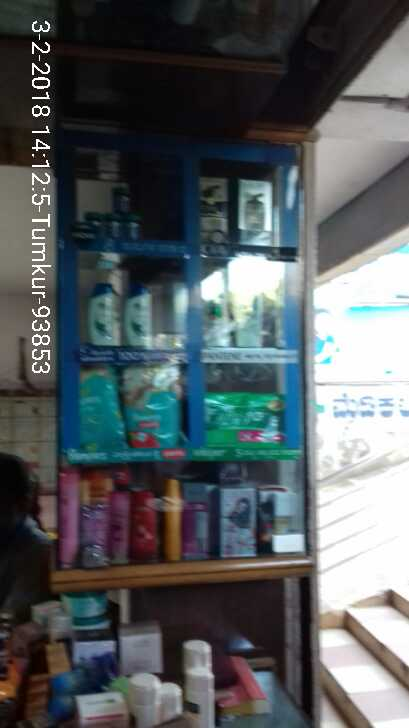beauty: (240, 177, 281, 237), (87, 280, 120, 348), (124, 283, 154, 353)
pharmacy: (120, 372, 181, 456), (205, 397, 288, 449), (126, 212, 144, 242), (114, 182, 128, 216), (103, 214, 120, 236), (84, 211, 98, 229)
